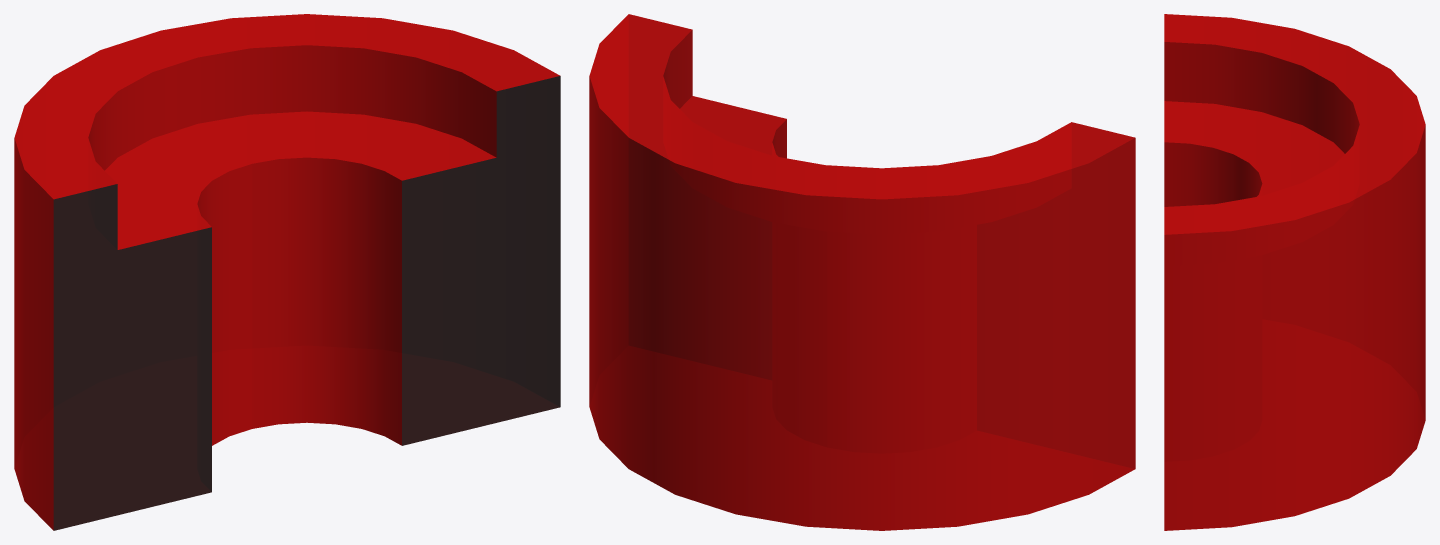
The picture shows the model from 3 angles, left to right: view 1: azimuth 30°, elevation 25°; view 2: azimuth 150°, elevation 25°; view 3: azimuth 270°, elevation 25°; orthographic projection. The views are drawn at different scales.
Visible parts, largest first — view 1: group_0 (×3); view 2: group_0; view 3: group_0.
Part boxes in pixels (x1,y1,x2,y2): group_0 (×3): (14, 14, 560, 530); group_0: (589, 14, 1135, 530); group_0: (1164, 14, 1425, 530).
Size of the model in its own units: 1575 by 787 by 984.
